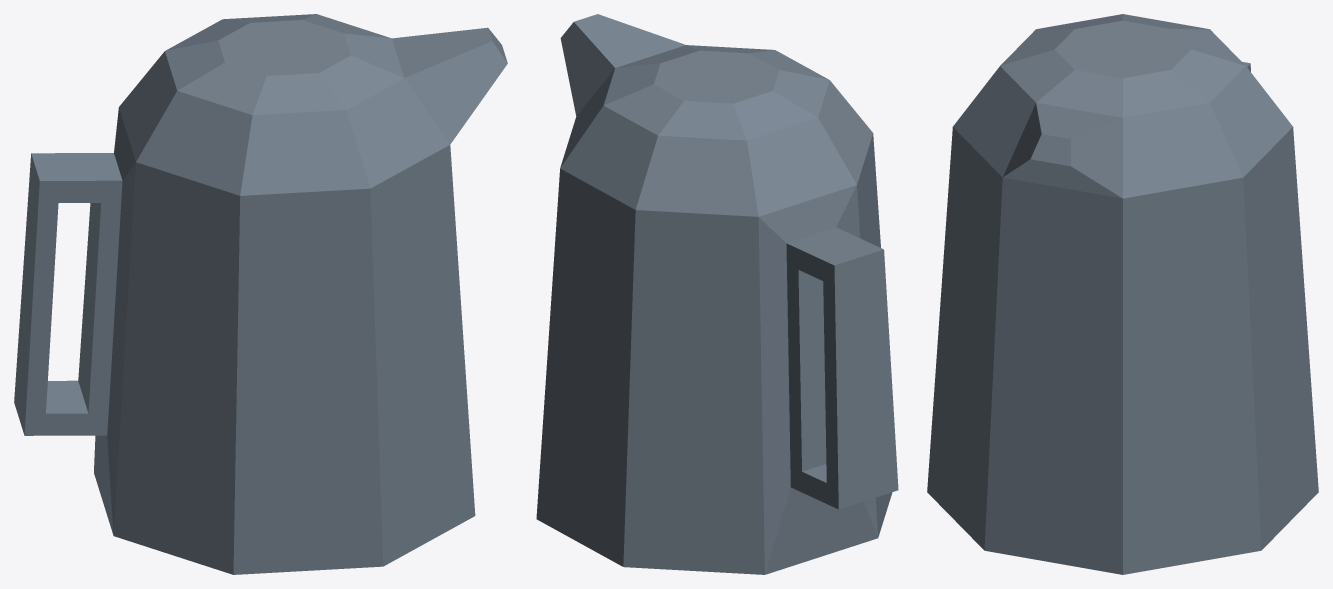
The model's file is Kettle.fbx.
3 renders of one model, left to right at view 1: azimuth 30°, elevation 25°; view 2: azimuth 150°, elevation 25°; view 3: azimuth 270°, elevation 25°, orthographic. The views are drawn at different scales.
Parts seen in each view (by area): view 1: Kettle; view 2: Kettle; view 3: Kettle.
Boxes of the visible parts, x1=… form: Kettle: x1=14, y1=14, x2=507, y2=574; Kettle: x1=536, y1=14, x2=898, y2=574; Kettle: x1=927, y1=14, x2=1318, y2=574.
Bounding box in the file's own units: 67.11 × 68.54 × 54.96.
